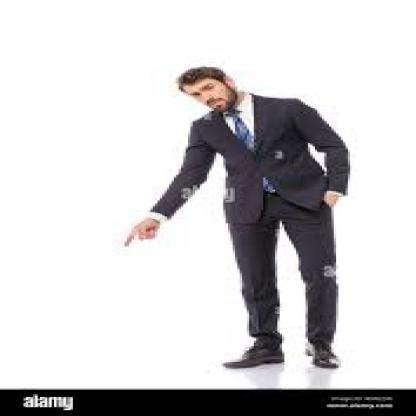Down: (113, 212, 167, 257)
